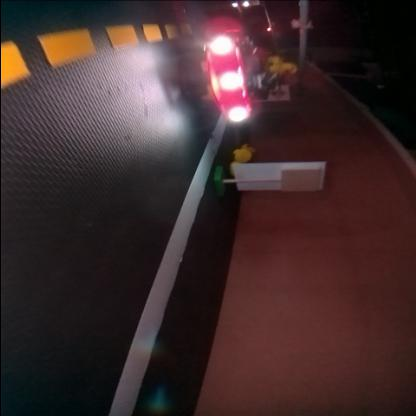Duckie: (270, 54, 297, 78), (233, 148, 252, 163)
Duckiebot: (198, 30, 271, 120)
